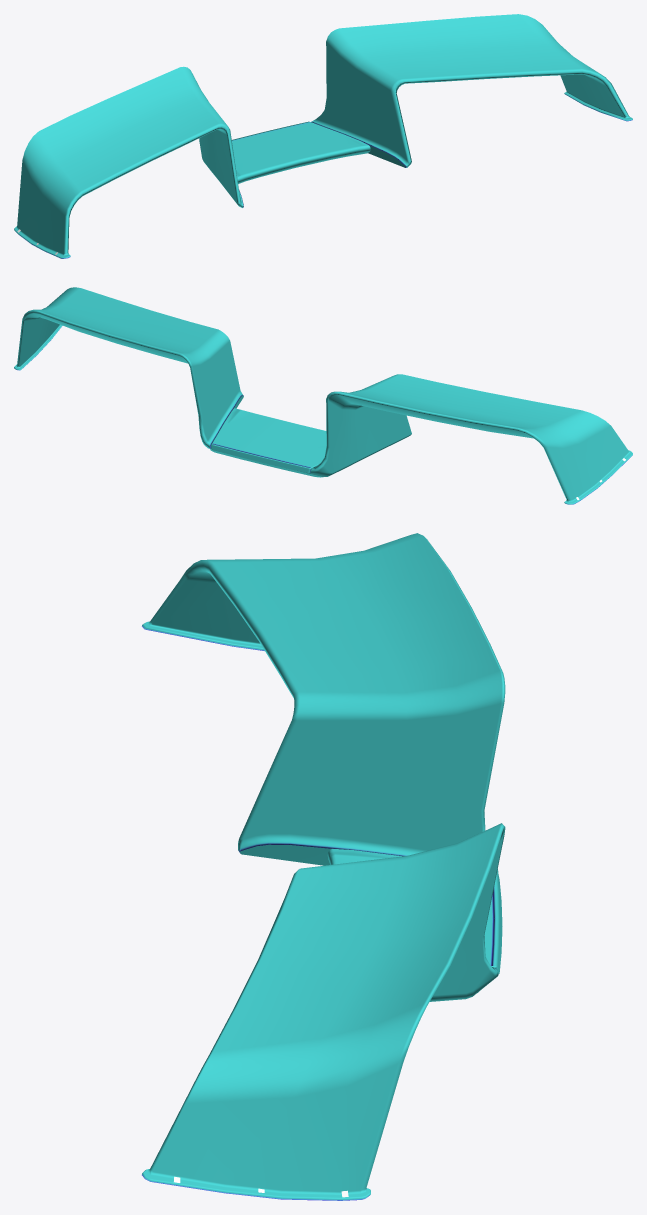
Rendered from Car_Ford_GT_2017_Spoiler_SetC.fbx.
3 renders of one model, top to bottom at view 1: azimuth 30°, elevation 25°; view 2: azimuth 150°, elevation 25°; view 3: azimuth 270°, elevation 25°, orthographic. The views are drawn at different scales.
Parts seen in each view (by area): view 1: Spoiler 6; view 2: Spoiler 6; view 3: Spoiler 6.
Part boxes in pixels (x1=…): Spoiler 6: x1=14, y1=14, x2=632, y2=258; Spoiler 6: x1=14, y1=287, x2=632, y2=504; Spoiler 6: x1=142, y1=533, x2=505, y2=1200.
Bounding box in the file's own units: 1.64 × 0.2662 × 0.4502.
